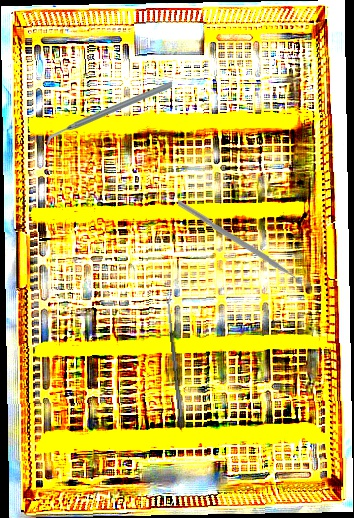Chopper: (176, 199, 305, 297), (46, 81, 172, 147)
Surgical Spoon: (165, 296, 184, 417)
